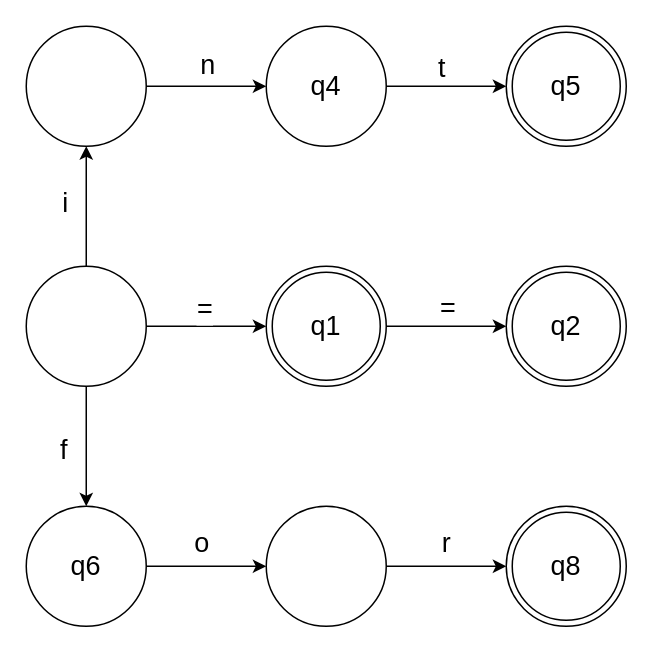
Image size: 653x653. Some labels were removed from this diagram. Each missing label, with the centre of its shape:
"q0" belongs at point (85, 325).
"q3" belongs at point (85, 85).
"q7" belongs at point (325, 565).
